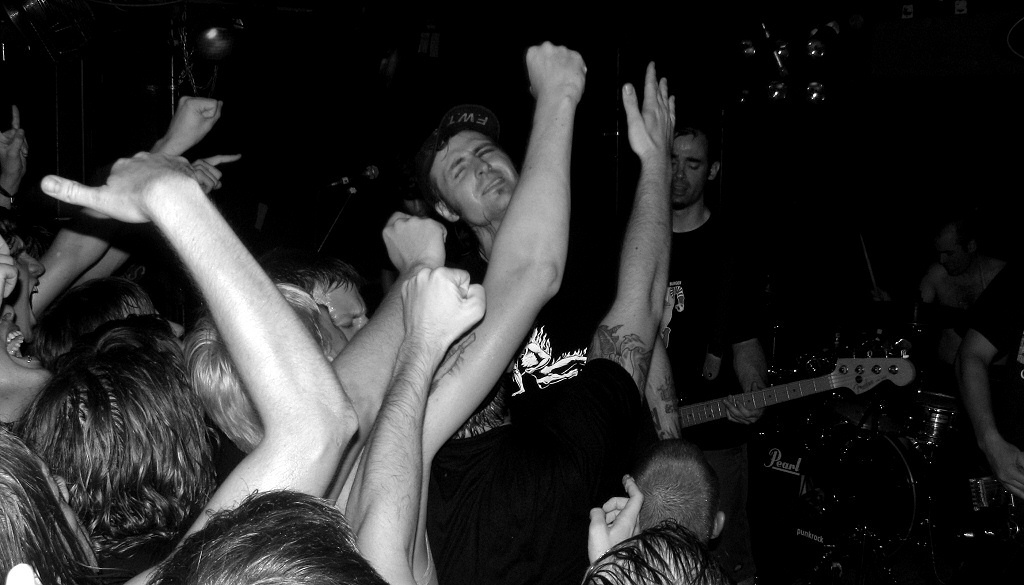Human_hand: (39, 148, 197, 224), (615, 59, 695, 205), (398, 261, 484, 343), (586, 471, 644, 563), (524, 39, 588, 101), (380, 208, 443, 269), (161, 94, 225, 150), (722, 381, 770, 427), (0, 105, 27, 184), (190, 154, 241, 194), (988, 442, 1023, 498), (0, 236, 17, 306)
